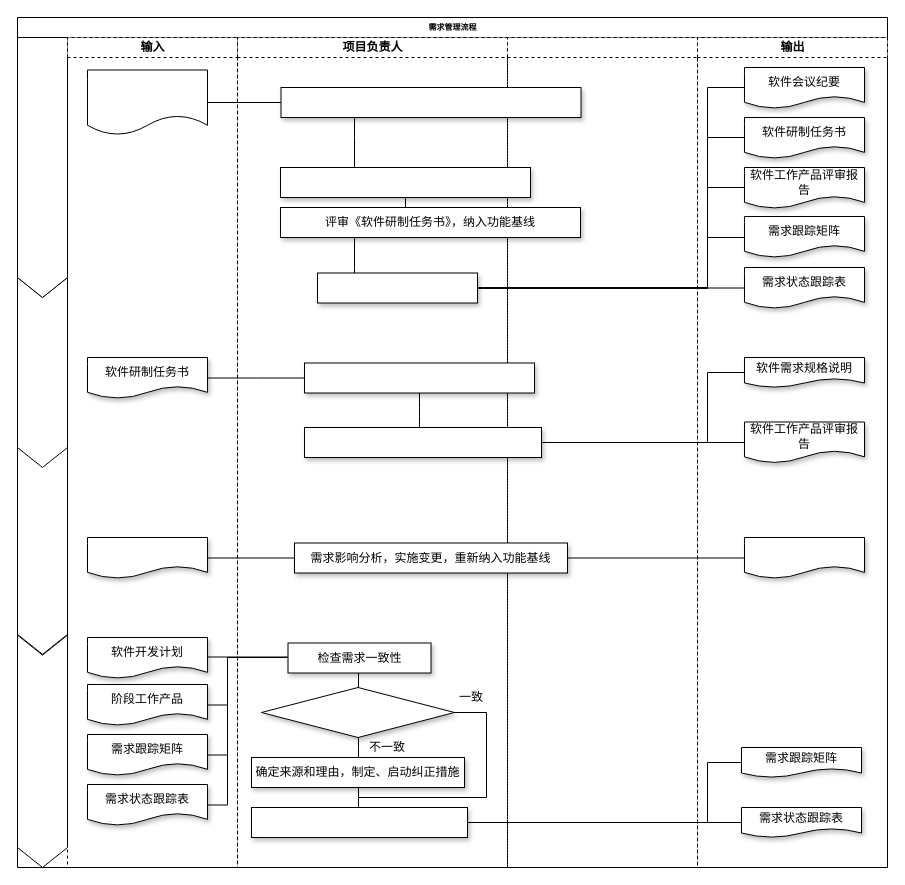
This 905x885 diagram has some shape labels left out. The centre of each missing label's shape, as x and y in pixels:
"一致？" belongs at [358,713].
"变更后的软件研制任务书及相关工作产品" belongs at [805,559].
"建立需求跟踪矩阵、需求状态表" belongs at [398,289].
"技术协议/合同/软件研制任务通知" belongs at [147,102].
"接收、审查《软件研制任务书》" belongs at [406,183].
"更新需求跟踪矩阵和需求状态跟踪表" belongs at [360,823].
"相关人员" belongs at [602,452].
"编写《软件需求规格说明》" belongs at [420,379].
"评审《软件需求规格说明》，纳入分配基线" belongs at [424,443].
"软件研制任务书变更申请" belongs at [148,559].
"需求获取与理解" belongs at [431,103].
